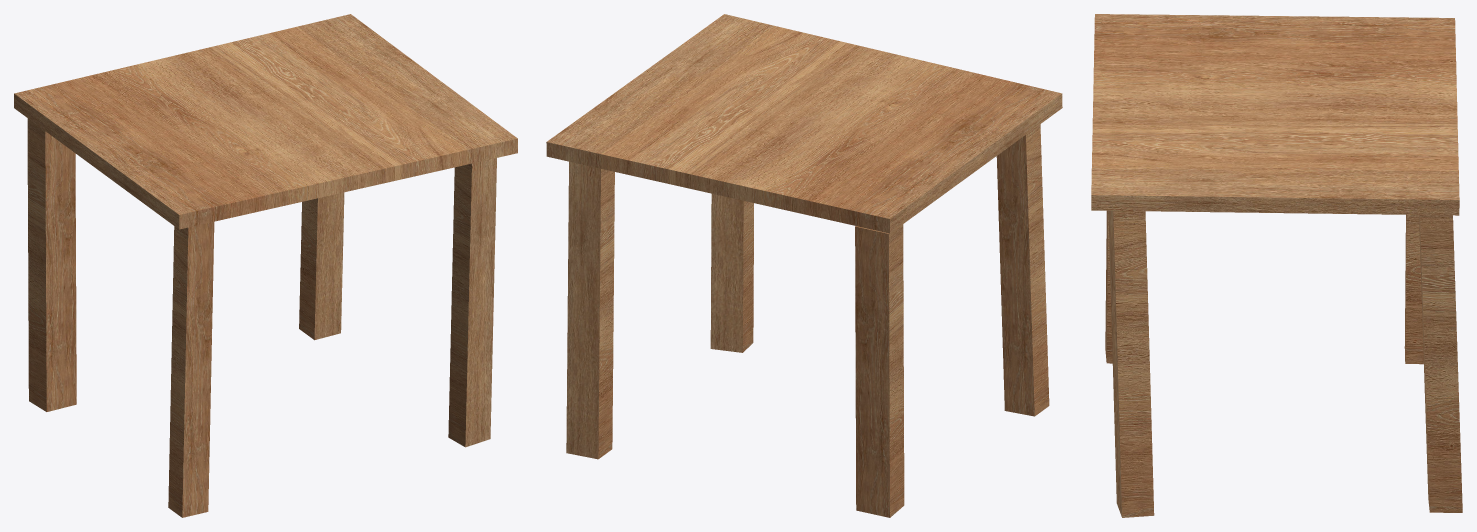
File: 19416_ours.glb
The picture shows the model from 3 angles, left to right: view 1: azimuth 30°, elevation 25°; view 2: azimuth 150°, elevation 25°; view 3: azimuth 270°, elevation 25°; orthographic projection. The views are drawn at different scales.
Parts seen in each view (by area): view 1: ParentEmpty; view 2: ParentEmpty; view 3: ParentEmpty.
Part boxes in pixels (left/top/right/bottom): ParentEmpty: left=14, top=14, right=517, bottom=517; ParentEmpty: left=546, top=14, right=1062, bottom=517; ParentEmpty: left=1091, top=14, right=1462, bottom=517.
Bounding box in the file's own units: 1 × 0.8731 × 0.8788.
1 material, 1 textured.
